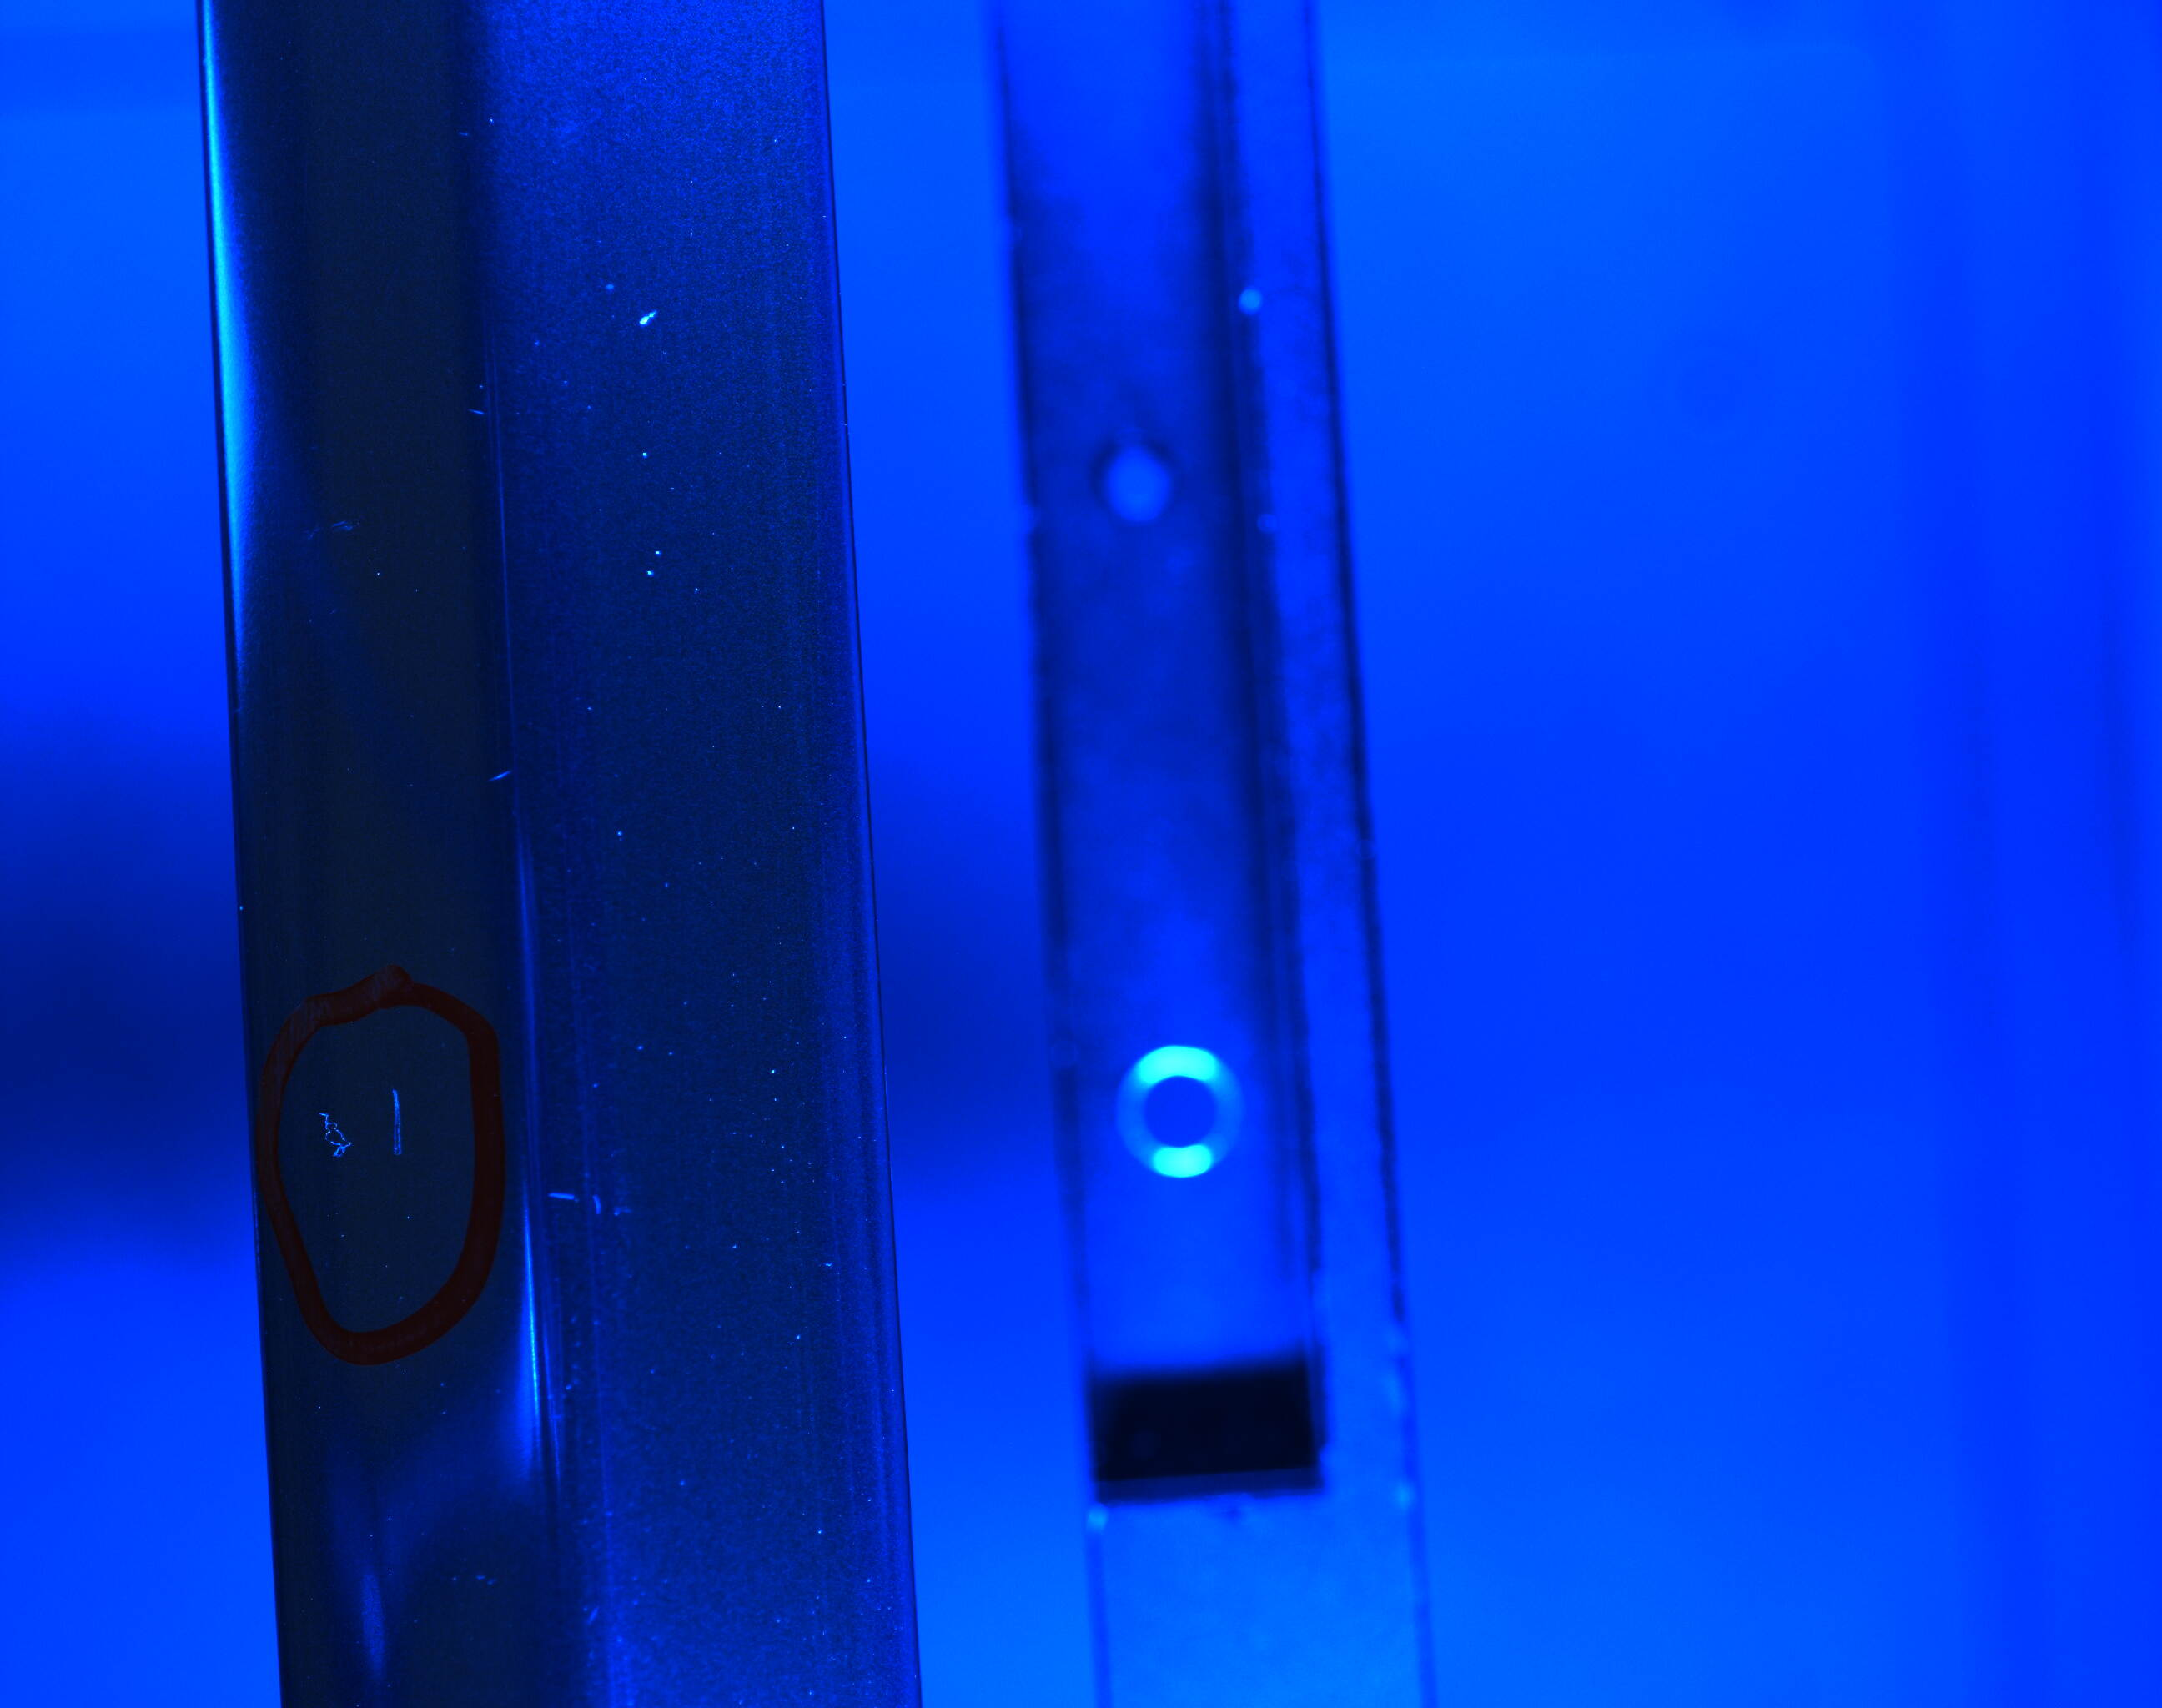NG: (307, 1087, 418, 1188), (535, 1169, 614, 1236), (612, 293, 683, 360), (484, 753, 523, 815)
